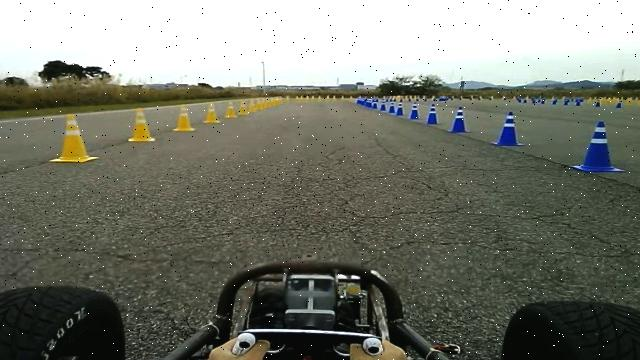blue cone: (570, 120, 627, 172), (492, 110, 524, 146), (448, 105, 471, 133), (427, 103, 439, 124), (409, 102, 420, 120), (396, 102, 405, 115), (388, 102, 397, 114)
yellow cone: (50, 113, 99, 163), (128, 107, 156, 142), (173, 106, 195, 132), (203, 102, 221, 124), (224, 101, 238, 118), (238, 101, 249, 115), (248, 98, 258, 113), (258, 97, 268, 111), (273, 95, 283, 107)
